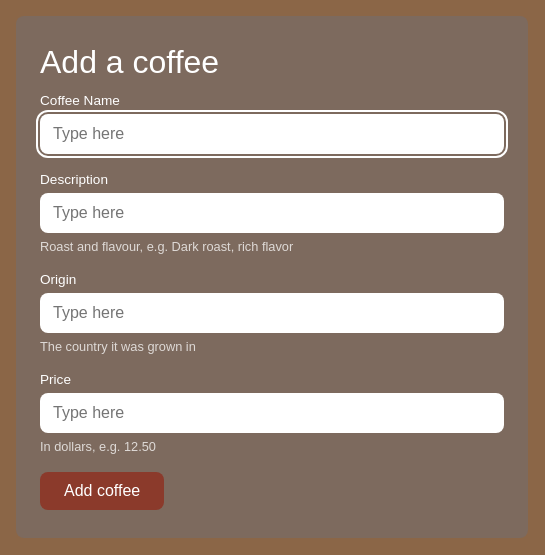
Test: Admin portal form › rejects a price that isn't a positive number
This screenshot has width=545, height=555.
Type "Morning Roast" into the field labelled "Coffee Name". click: (272, 134)
box: [40,114,504,154]
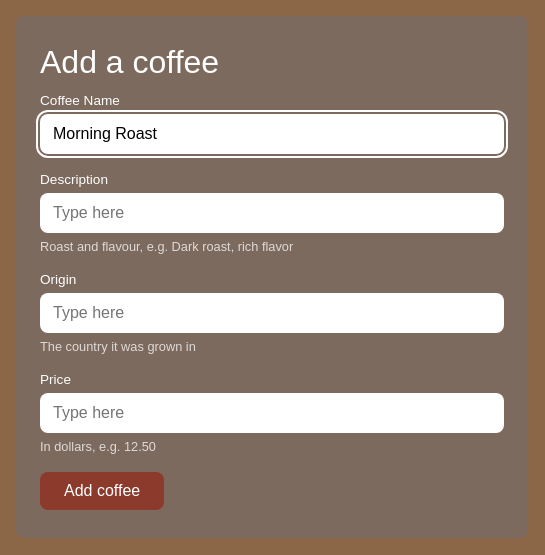
Type "Light and fruity" into the field labelled "Description". click: (272, 213)
box: [40,193,504,233]
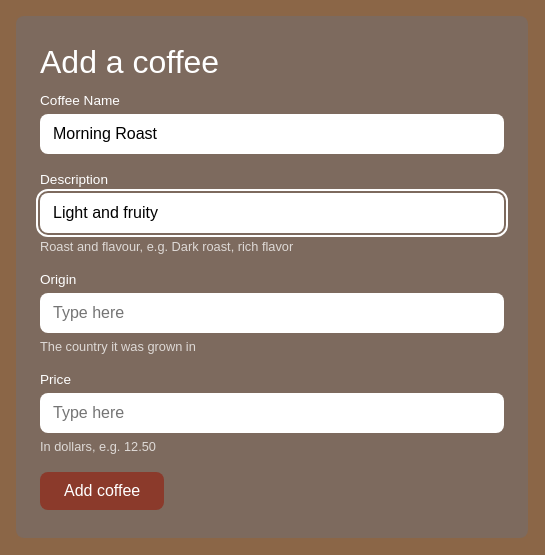
Type "Kenya" into the field labelled "Origin". click: (272, 313)
box: [40,293,504,333]
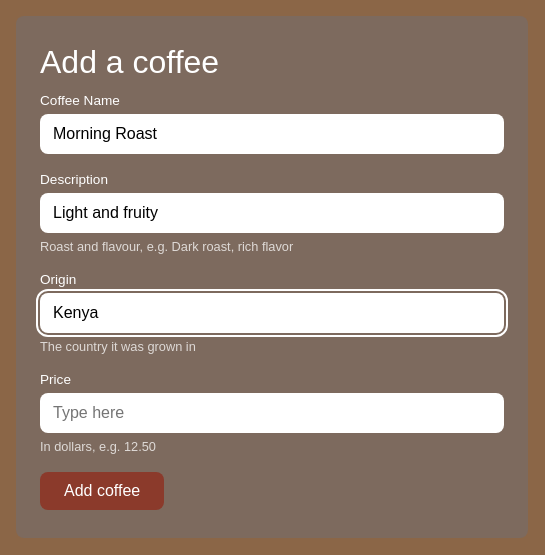
Type "-4" into the number field labelled "Price". click: (272, 413)
box: [40,393,504,433]
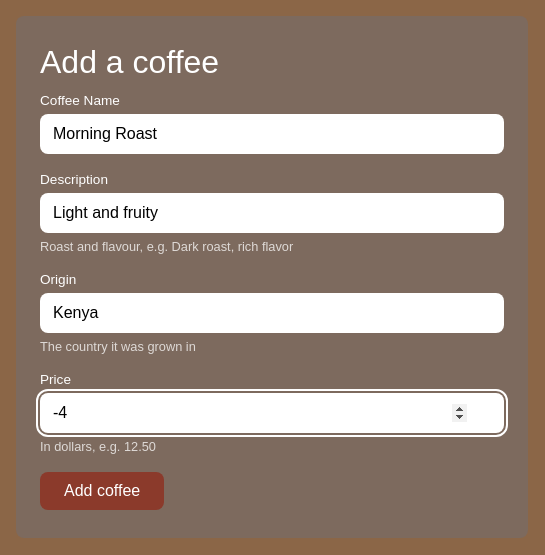
Click the button "Add coffee". click: click(102, 491)
box: [40,472,164,510]
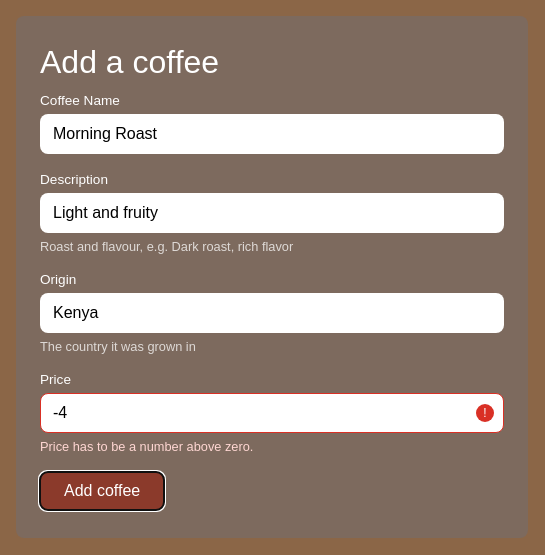
Result: the text "Price has to be a number above zero." is shown at [40,439,253,454]
